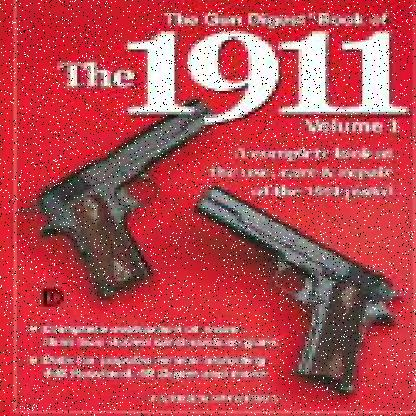pistol: (185, 182, 400, 395), (27, 96, 218, 299)
